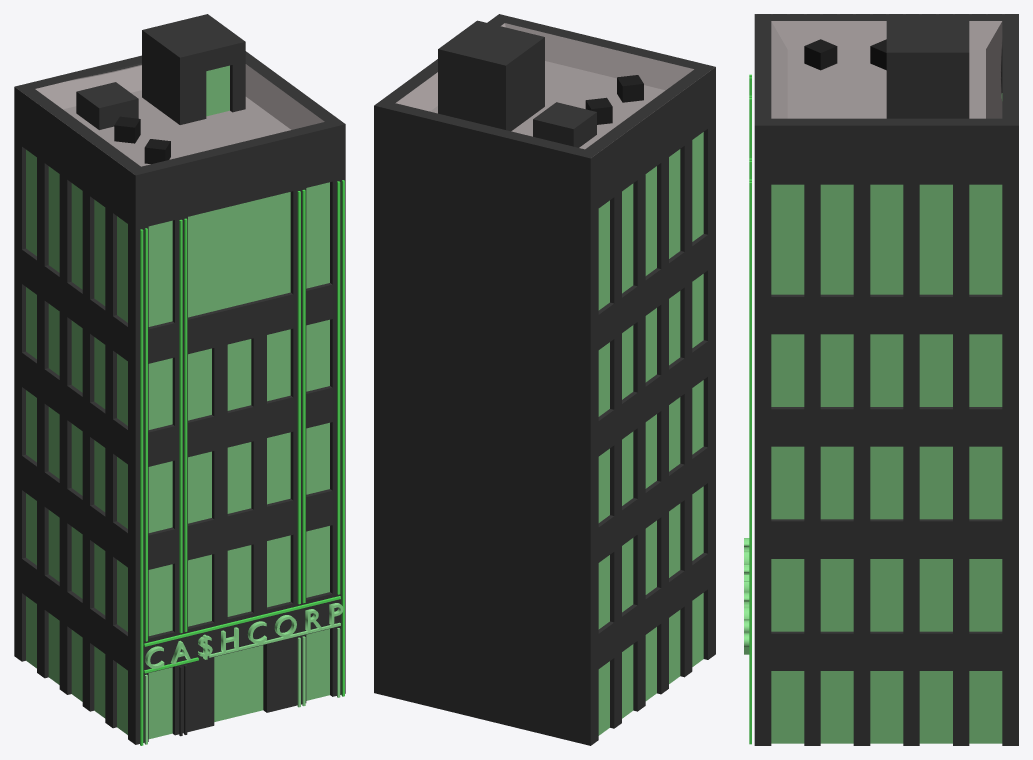
File: CashcorpBuildingWIP.obj
3 views of the same model, side by side, from view 1: azimuth 30°, elevation 25°; view 2: azimuth 150°, elevation 25°; view 3: azimuth 270°, elevation 25° (orthographic). The views are drawn at different scales.
Visible parts, largest first — view 1: Cube.012_Cube.018; view 2: Cube.012_Cube.018; view 3: Cube.012_Cube.018.
Part boxes in pixels (box(x1,y1,x2,y2)): Cube.012_Cube.018: box(14, 14, 345, 745); Cube.012_Cube.018: box(374, 14, 715, 745); Cube.012_Cube.018: box(744, 14, 1018, 745).
Size of the model in its own units: 10 by 28.07 by 10.4.
Materials: 1 (1 with a texture image).
